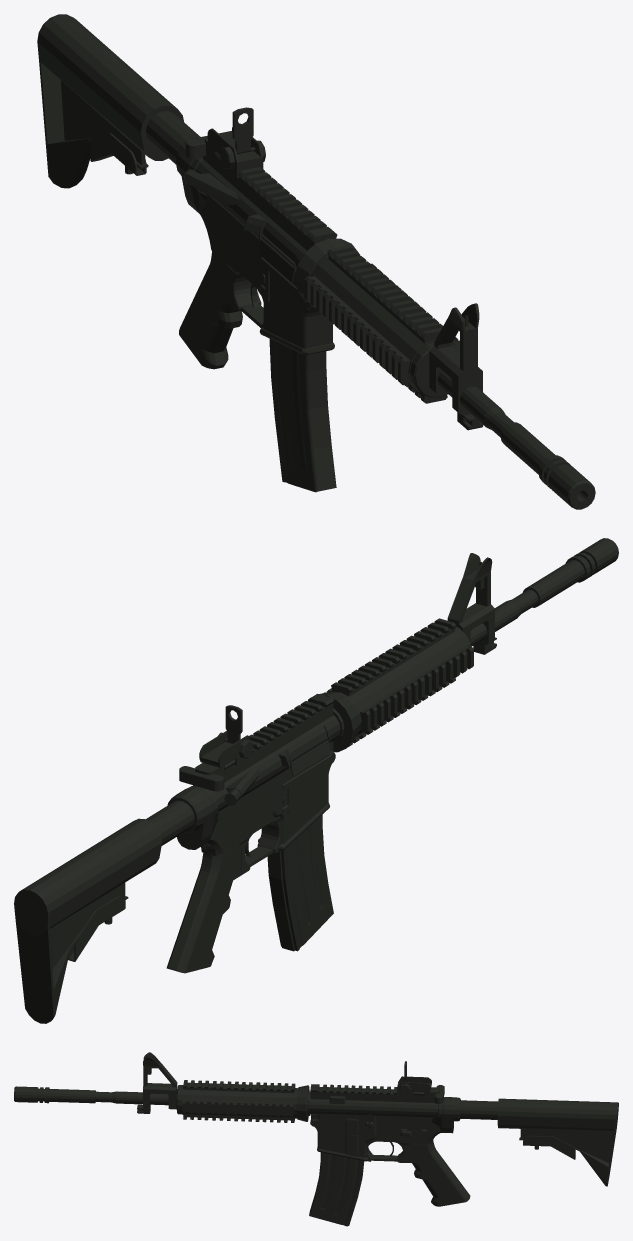
The model's file is rifle.obj.
The picture shows the model from 3 angles, top to bottom: view 1: azimuth 30°, elevation 25°; view 2: azimuth 150°, elevation 25°; view 3: azimuth 270°, elevation 25°; orthographic projection. The views are drawn at different scales.
Parts seen in each view (by area): view 1: rifle; view 2: rifle; view 3: rifle.
Boxes of the visible parts, box(x1,y1,x2,y2) form: rifle: box(37, 14, 595, 509); rifle: box(14, 538, 618, 1023); rifle: box(14, 1052, 618, 1226).
Size of the model in its own units: 1.18 by 3.23 by 10.85.
1 material, 1 textured.
